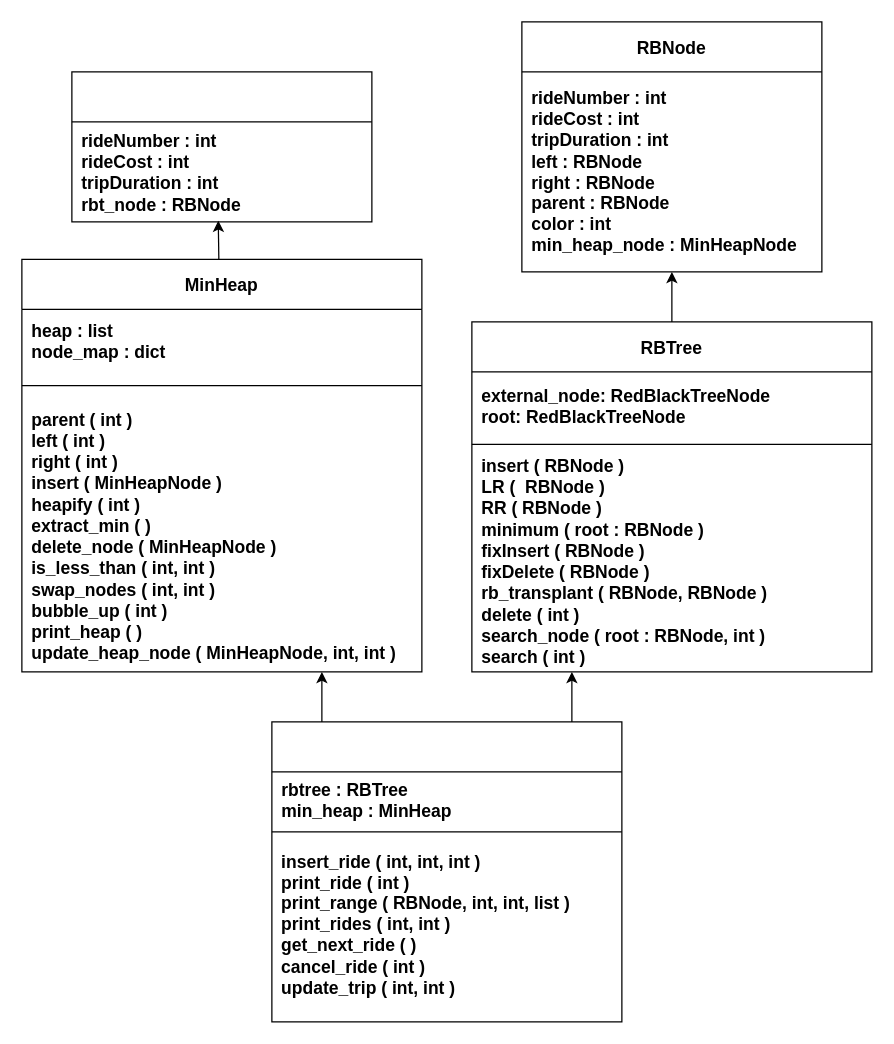
The diagram is 894 pixels wide and 1044 high, and some of its shapes have lost their labels. The shapes that lost their labels are listed below. From the top down, each one's box as (x1, y1, x2, y2) in pixels, then its label:
(71, 71, 372, 222): MinHeapNode
(271, 721, 622, 1022): GatorTaxi
